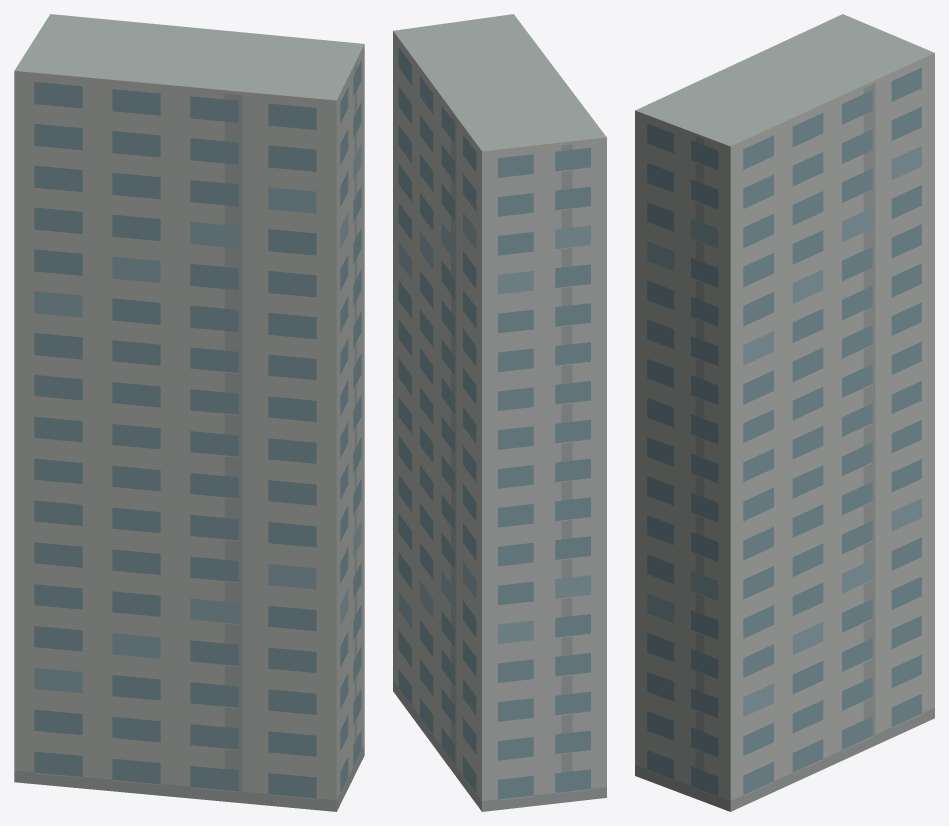
File: residential-72b95b4d-4477-4a06-906f-c99fd1791771.glb
3 renders of one model, left to right at view 1: azimuth 30°, elevation 25°; view 2: azimuth 150°, elevation 25°; view 3: azimuth 270°, elevation 25°, orthographic. The views are drawn at different scales.
Visible parts, largest first — view 1: residential-72b95b4d-4477-4a06-906f-c99fd1791771.tmp; view 2: residential-72b95b4d-4477-4a06-906f-c99fd1791771.tmp; view 3: residential-72b95b4d-4477-4a06-906f-c99fd1791771.tmp.
Boxes of the visible parts, left/top/right/bottom form: residential-72b95b4d-4477-4a06-906f-c99fd1791771.tmp: left=14, top=14, right=364, bottom=811; residential-72b95b4d-4477-4a06-906f-c99fd1791771.tmp: left=393, top=14, right=606, bottom=811; residential-72b95b4d-4477-4a06-906f-c99fd1791771.tmp: left=635, top=14, right=934, bottom=811.
Size of the model in its own units: 21.78 by 51 by 20.83.
